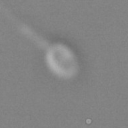normal: (1, 5, 50, 48)
